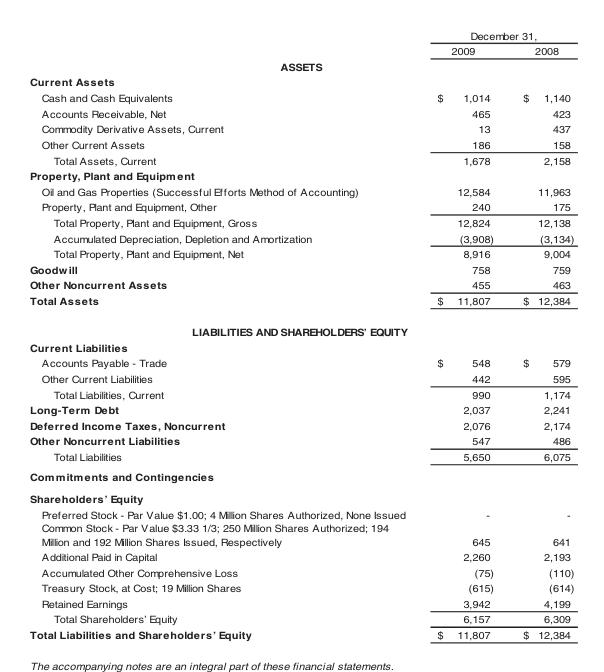table: (28, 29, 573, 640)
table column: (28, 29, 420, 640), (420, 29, 507, 640), (507, 29, 573, 640)
table column header: (28, 29, 573, 58)
table projected row header: (28, 315, 573, 339), (28, 466, 573, 487), (28, 487, 573, 506), (28, 58, 573, 74), (28, 167, 573, 183), (28, 74, 573, 89), (28, 339, 573, 354)
table row: (28, 520, 573, 548), (28, 315, 573, 339), (28, 292, 573, 315), (28, 466, 573, 487), (28, 487, 573, 506), (28, 448, 573, 466), (28, 42, 573, 58), (28, 58, 573, 74), (28, 89, 573, 105), (28, 105, 573, 121), (28, 136, 573, 152), (28, 167, 573, 183), (28, 183, 573, 199), (28, 214, 573, 230), (28, 245, 573, 261), (28, 276, 573, 292), (28, 354, 573, 370), (28, 370, 573, 386), (28, 401, 573, 417), (28, 432, 573, 448), (28, 548, 573, 564), (28, 579, 573, 595), (28, 595, 573, 611), (28, 74, 573, 89), (28, 121, 573, 136), (28, 152, 573, 167), (28, 199, 573, 214), (28, 230, 573, 245), (28, 261, 573, 276), (28, 339, 573, 354), (28, 386, 573, 401), (28, 417, 573, 432), (28, 564, 573, 579), (28, 611, 573, 626), (28, 506, 573, 520), (28, 626, 573, 640), (28, 29, 573, 42)
table spanning cell: (420, 29, 573, 42)
